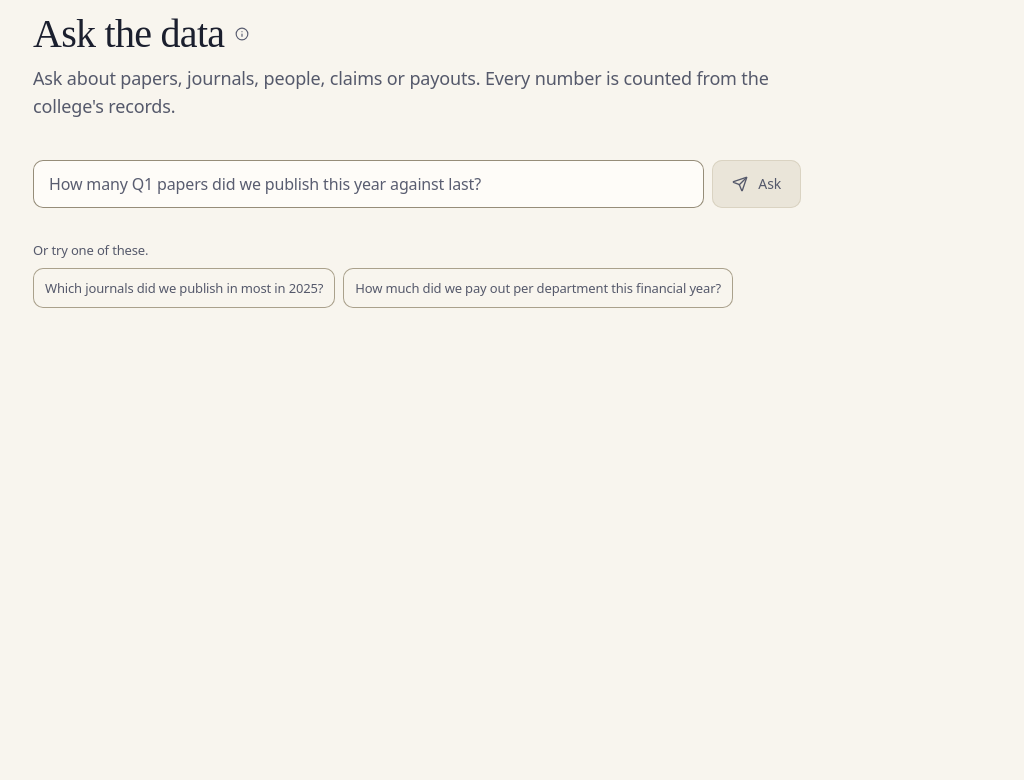
Test: Ask the data › shows a limit inline and keeps the page usable
The image size is (1024, 780).
Type "Anything?" into the field named "Your question" at (369, 184), box x1=33 y1=160 x2=704 y2=208
Then press Enter
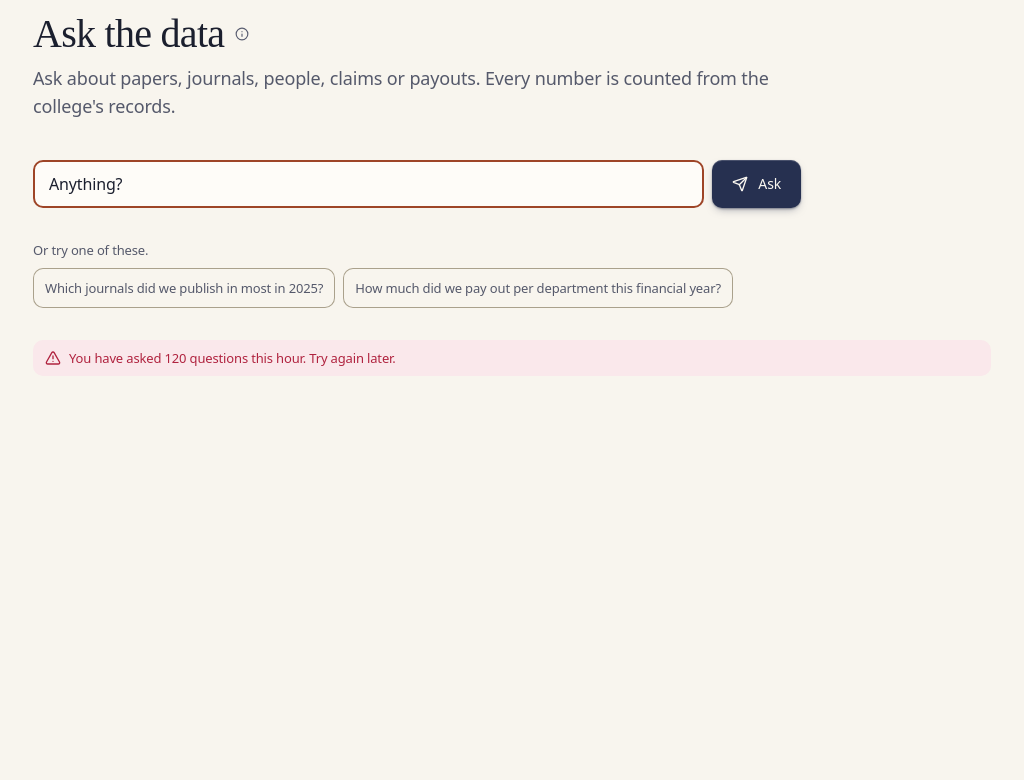
Expected: the message shows "You have asked 120 questions this hour.", x1=69 y1=349 x2=396 y2=367
Click the button "Which journals did we publish in most in 2025?" at (184, 288), box x1=33 y1=268 x2=335 y2=308
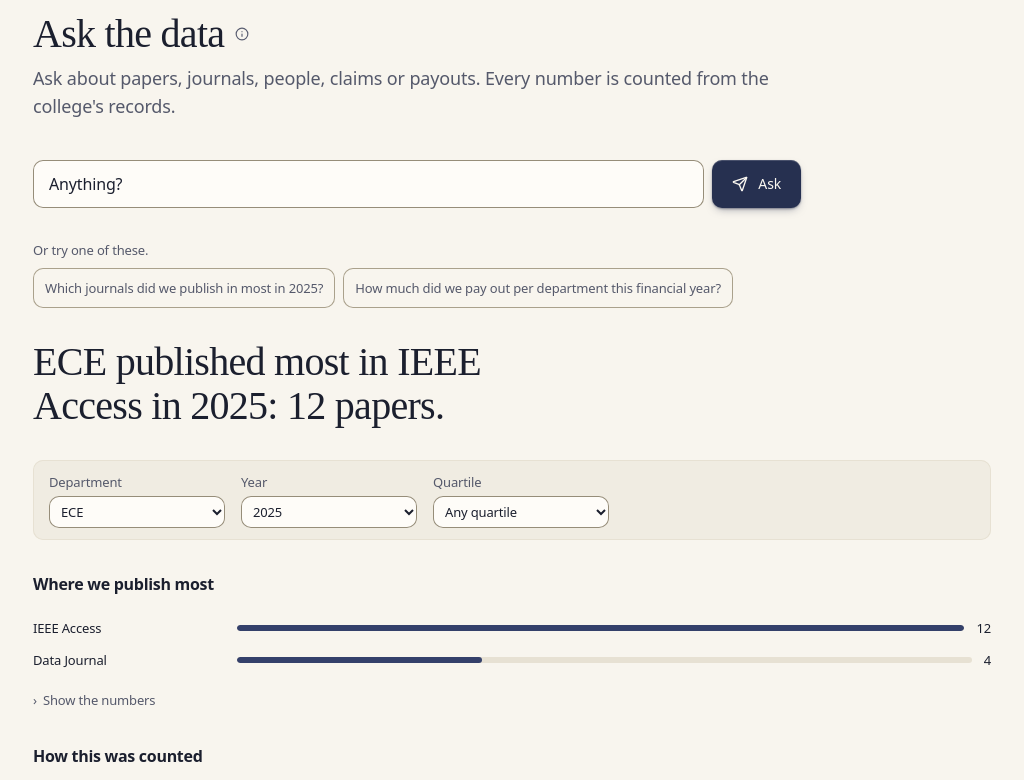
Expected: the text "ECE published most in IEEE Access in 2025: 12 papers." is shown, x1=33 y1=339 x2=481 y2=428
